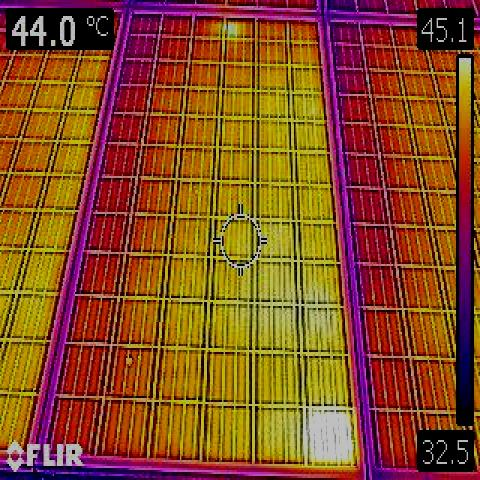fault: (302, 407, 357, 467), (216, 20, 236, 37)
